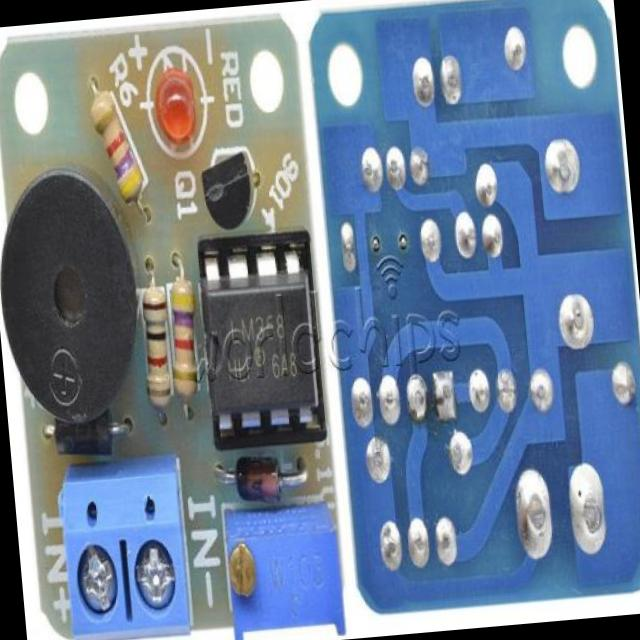IC: (195, 238, 321, 424)
LED: (148, 54, 204, 144)
connector: (55, 457, 191, 640)
diode: (41, 410, 122, 464), (226, 453, 298, 505)
potentiometer: (219, 498, 340, 640)
resistor: (84, 79, 154, 219), (164, 244, 201, 421), (138, 258, 171, 414)
